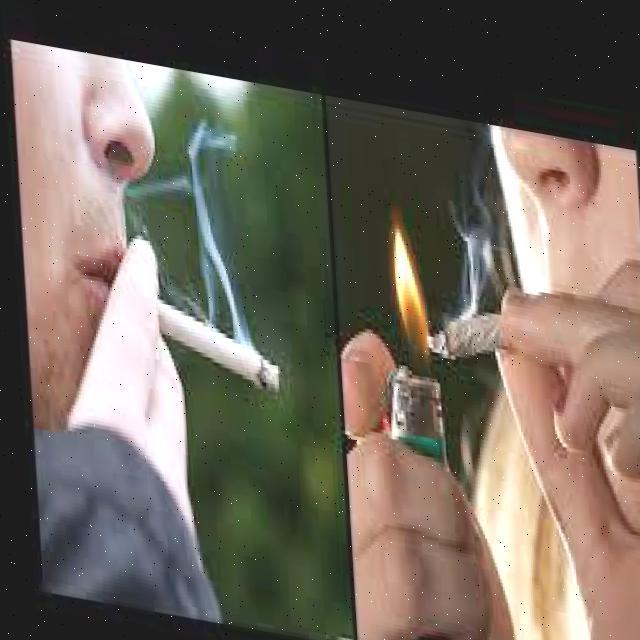Fire: (378, 208, 436, 349)
